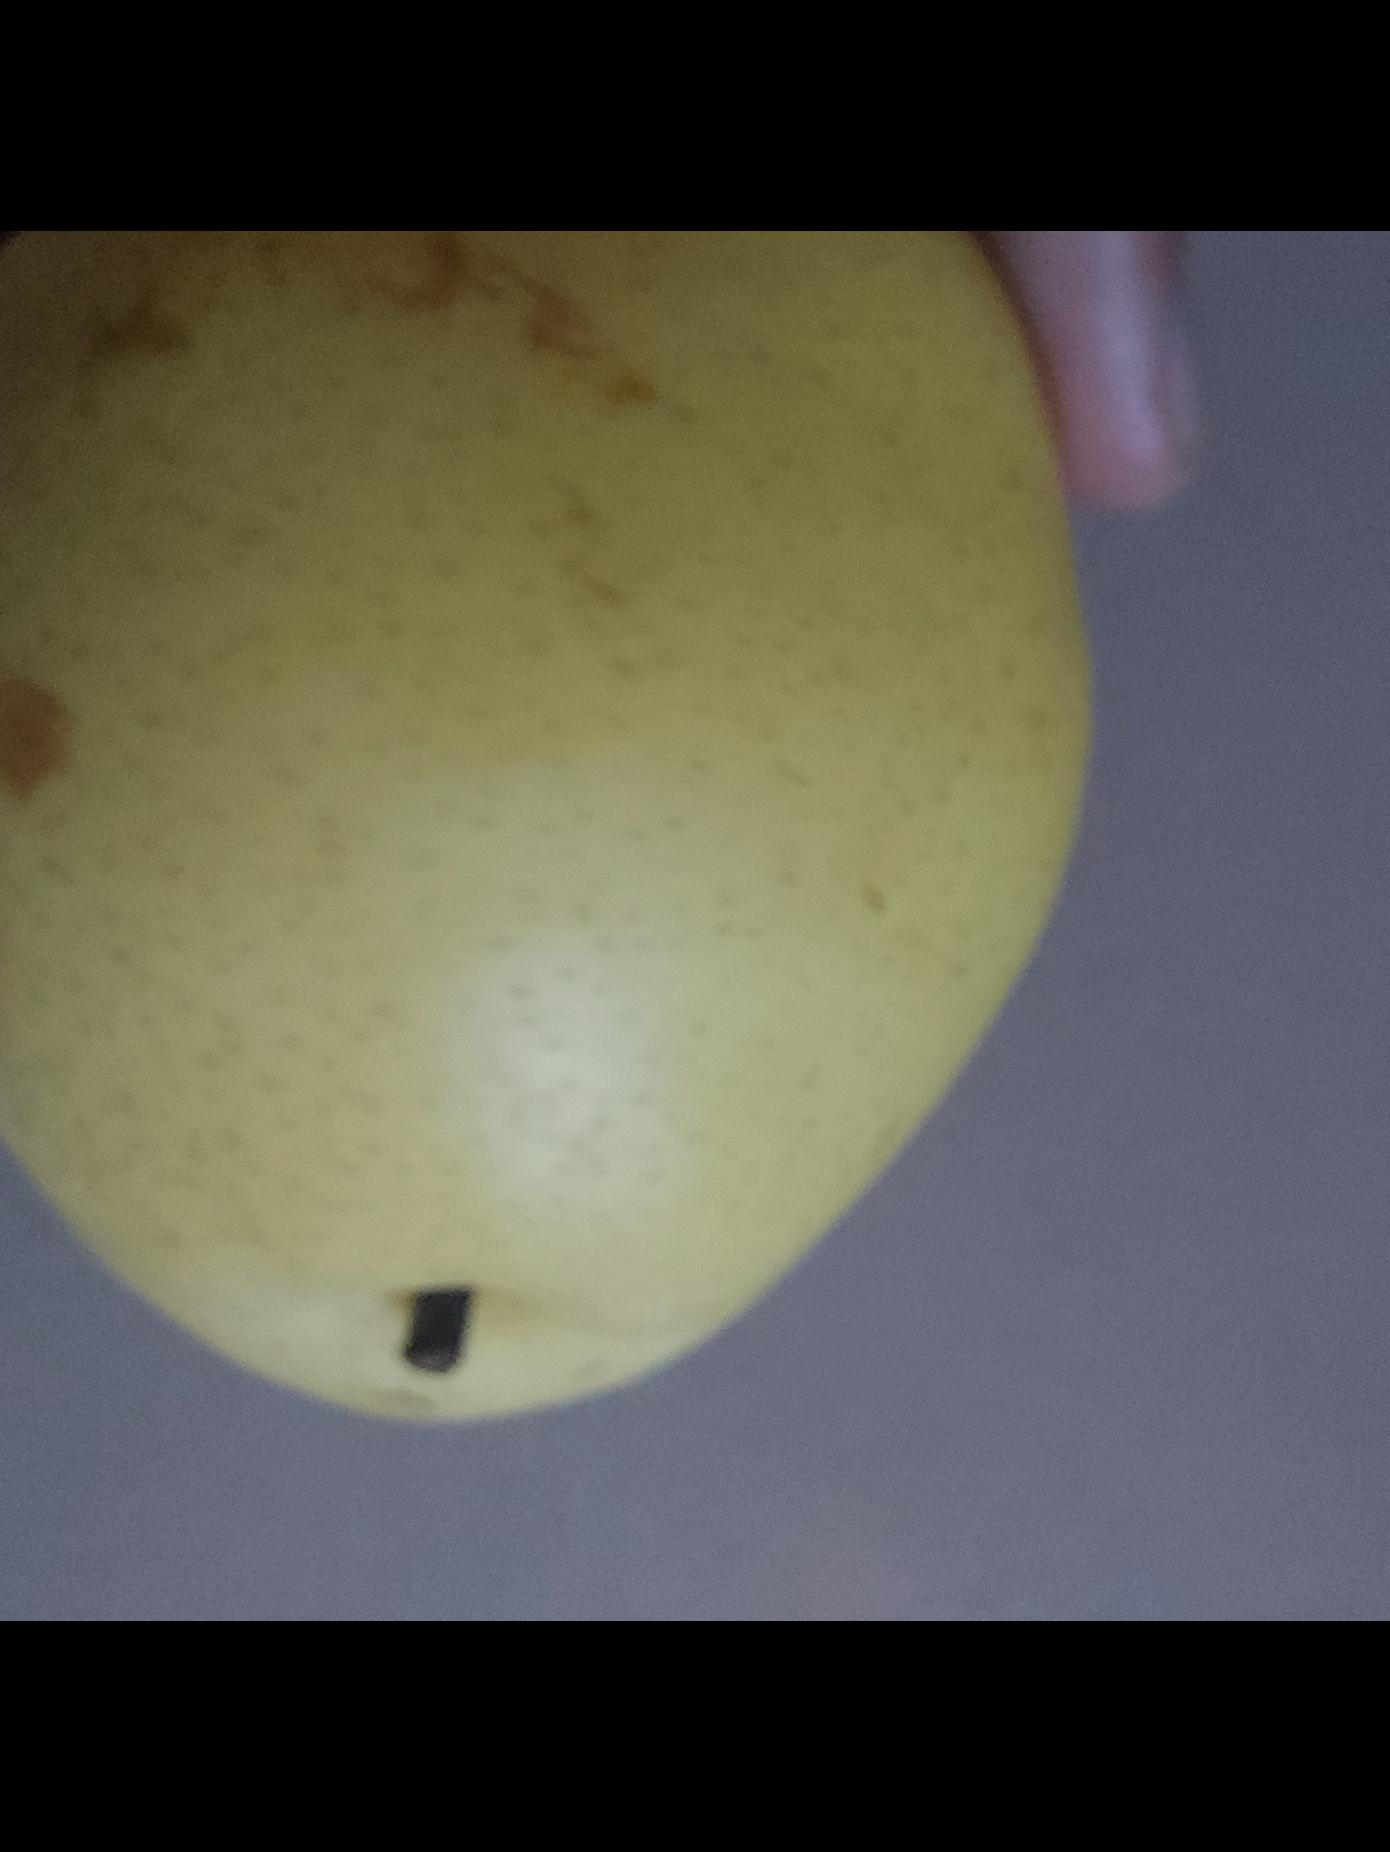Good Pear: (0, 231, 1063, 1437)
